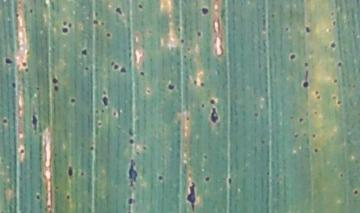tarspot: (187, 183, 197, 213), (128, 158, 138, 187), (211, 107, 218, 124), (4, 56, 14, 65), (32, 114, 38, 129), (200, 6, 209, 16), (67, 166, 74, 177), (127, 127, 135, 136), (115, 6, 122, 16), (80, 48, 88, 56), (167, 82, 175, 90), (120, 65, 127, 74), (330, 40, 337, 49), (103, 96, 109, 106), (51, 77, 59, 84), (302, 80, 309, 88), (209, 98, 216, 105), (252, 111, 259, 118), (61, 27, 69, 33), (92, 19, 100, 25), (196, 30, 202, 38), (127, 197, 133, 205), (305, 70, 309, 81), (1, 118, 8, 124), (53, 85, 59, 92), (69, 97, 76, 103), (290, 53, 296, 60), (305, 26, 311, 33), (260, 138, 266, 145), (204, 175, 210, 182), (157, 174, 163, 181), (11, 81, 16, 89), (228, 176, 232, 186), (24, 67, 30, 73), (21, 61, 27, 67), (129, 139, 135, 145), (284, 26, 290, 32), (289, 115, 295, 121), (114, 64, 119, 71), (193, 79, 198, 86), (332, 20, 337, 27), (106, 32, 111, 38), (94, 11, 99, 17), (138, 4, 144, 9), (140, 70, 145, 76), (200, 82, 205, 88), (203, 154, 208, 160), (304, 61, 309, 67), (314, 89, 319, 95), (337, 62, 343, 67), (331, 95, 336, 101), (294, 133, 300, 138), (80, 171, 85, 177), (54, 185, 59, 191), (35, 194, 40, 200), (177, 26, 181, 33), (15, 13, 20, 18), (20, 149, 25, 154), (100, 108, 105, 113), (112, 111, 117, 116), (110, 61, 115, 66), (146, 89, 151, 94), (186, 47, 191, 52), (142, 145, 147, 150), (271, 14, 276, 19), (300, 117, 305, 122), (314, 110, 319, 115), (330, 11, 335, 16), (333, 78, 338, 83), (337, 99, 342, 104), (312, 134, 317, 139), (339, 173, 344, 178), (354, 190, 359, 195), (29, 8, 33, 14), (63, 20, 67, 26), (90, 145, 94, 151), (84, 67, 90, 71), (266, 171, 270, 177), (95, 109, 99, 114), (103, 90, 107, 95), (101, 21, 105, 26), (180, 39, 185, 43), (186, 116, 190, 121), (201, 103, 205, 108), (183, 54, 187, 59), (316, 95, 321, 99), (314, 148, 318, 153), (136, 151, 140, 156), (66, 195, 70, 200), (69, 22, 72, 28), (36, 86, 40, 90), (98, 122, 102, 126), (1, 210, 5, 213)
